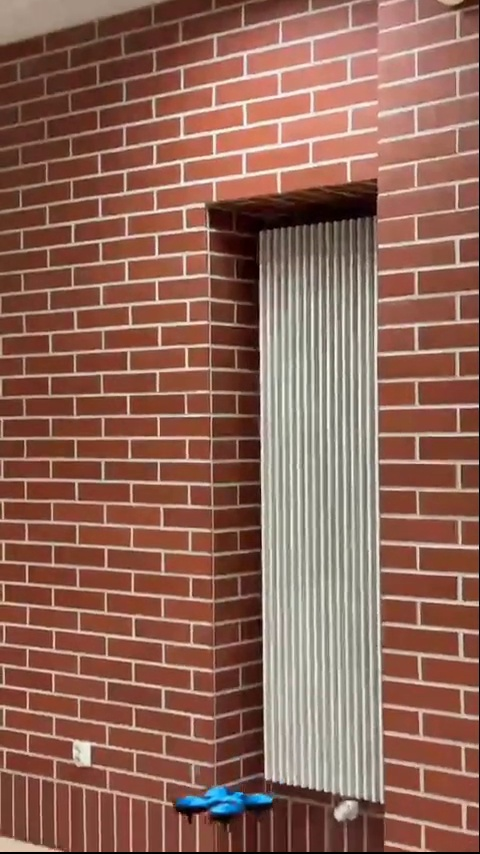drone: (171, 779, 272, 821)
